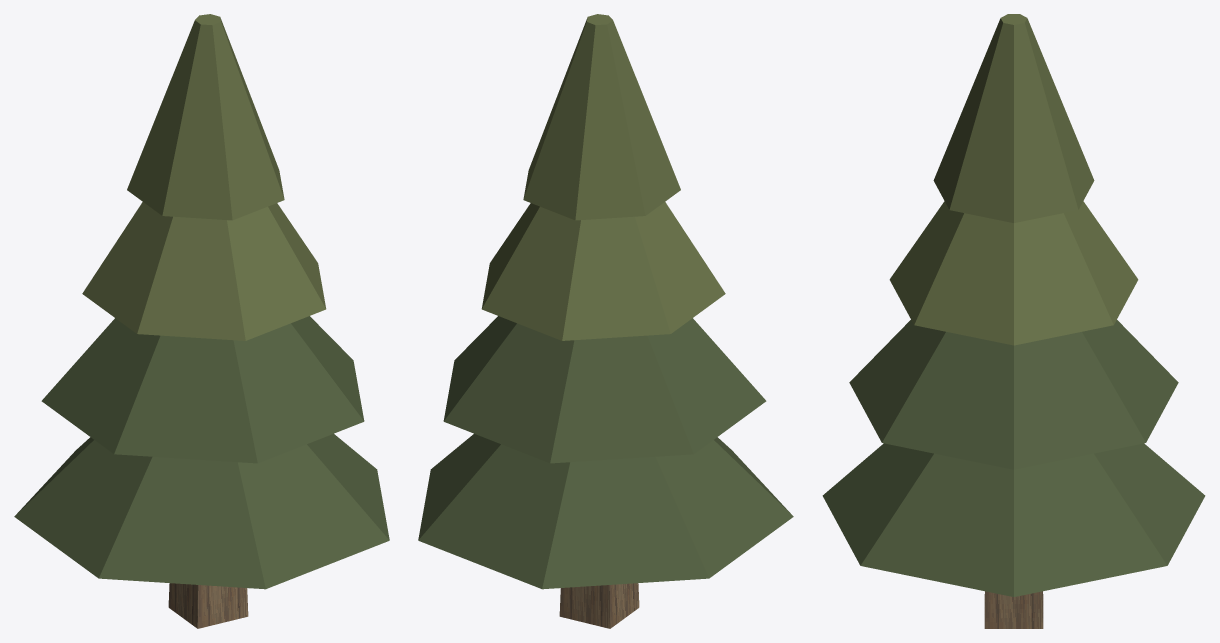
Rendered from conifer_tree.glb.
The picture shows the model from 3 angles, left to right: view 1: azimuth 30°, elevation 25°; view 2: azimuth 150°, elevation 25°; view 3: azimuth 270°, elevation 25°; orthographic projection.
Visible parts, largest first — view 1: root; view 2: root; view 3: root.
Boxes of the visible parts, x1=… form: root: x1=14, y1=14, x2=389, y2=628; root: x1=418, y1=14, x2=793, y2=628; root: x1=822, y1=14, x2=1205, y2=628.
Bounding box in the file's own units: 1.9 × 3.36 × 1.95.
Materials: 1 (1 with a texture image).
